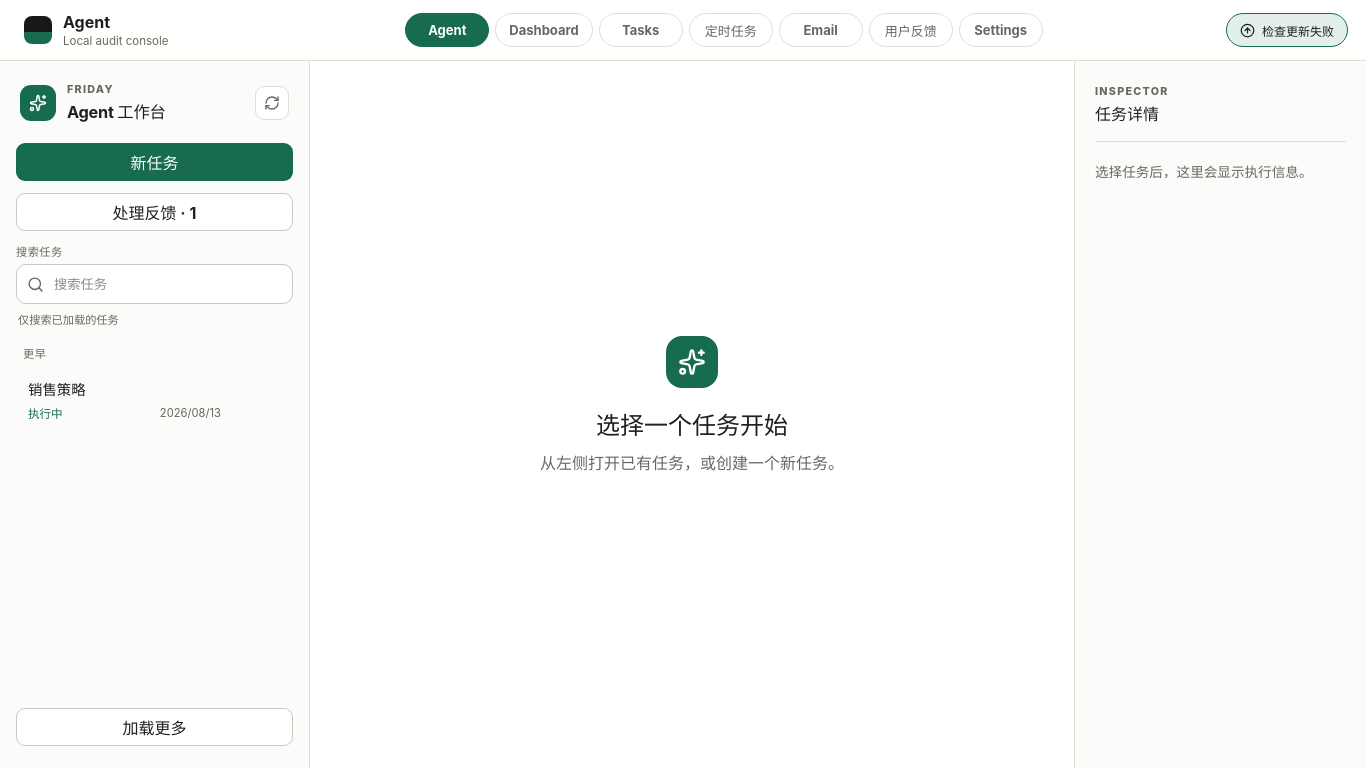
Test: App › paints the first page before manually requesting more
Check: the text "销售策略" is shown, box x1=28 y1=381 x2=86 y2=398
What coordinates should you click on to do the following:
click the button with aria-label "加载更多任务"
I would click on:
 (154, 727)
Its box is x1=16 y1=708 x2=293 y2=746.
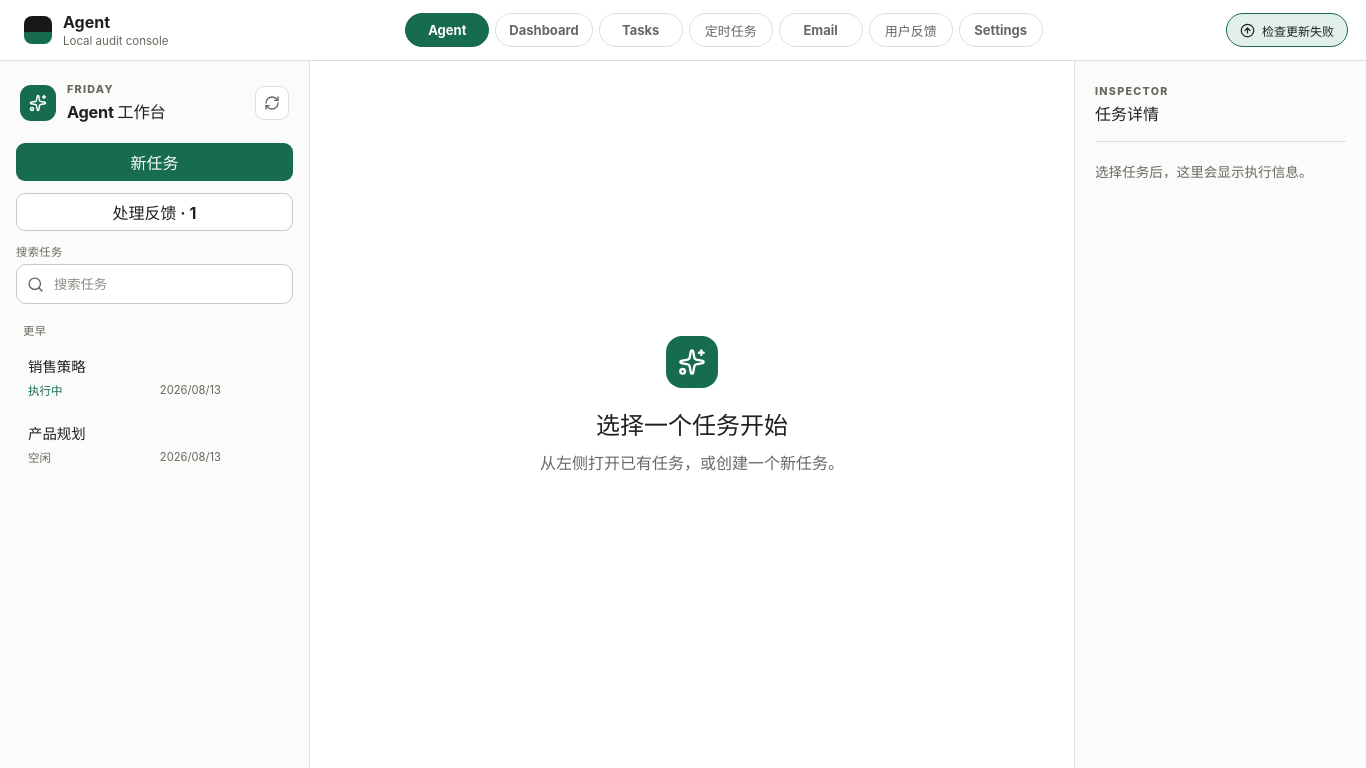
Check: the text "产品规划" is shown, box x1=28 y1=425 x2=86 y2=442
